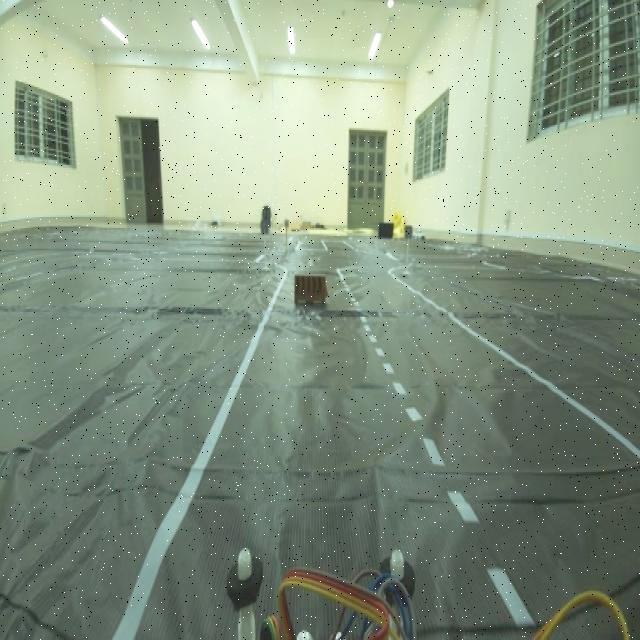roadblock: (288, 266, 330, 323)
